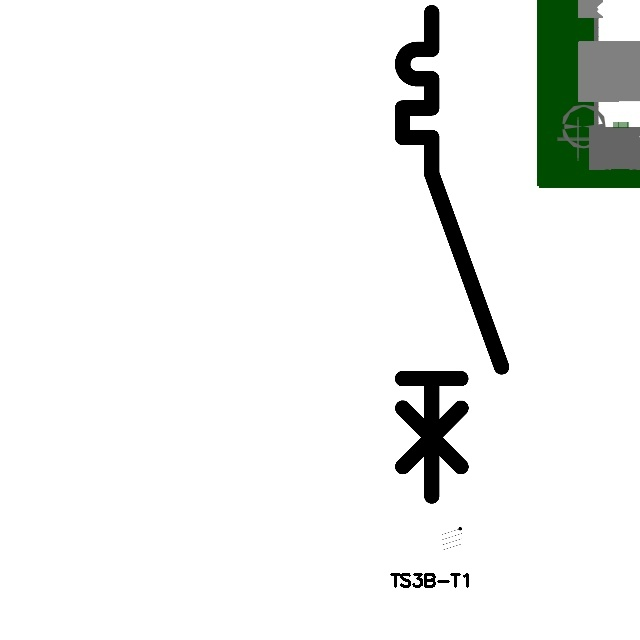interruptor_termomagnetico: (390, 0, 514, 508)
